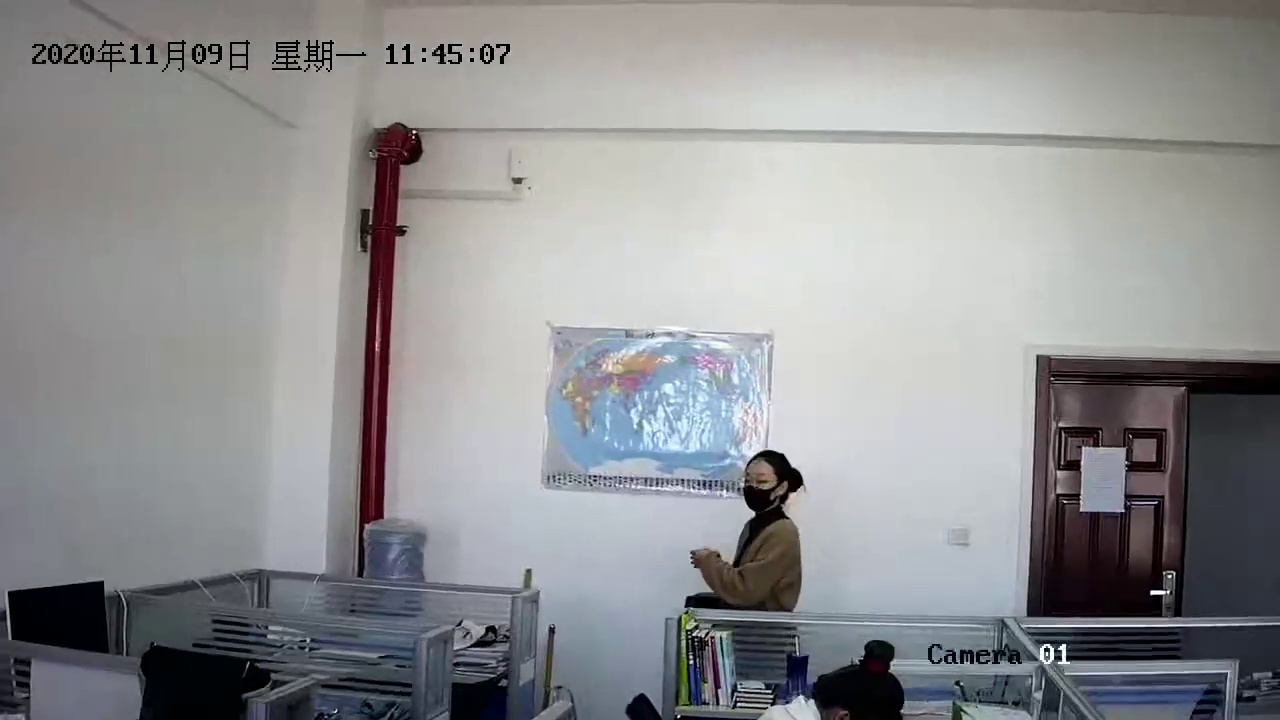mask: (741, 447, 789, 516)
